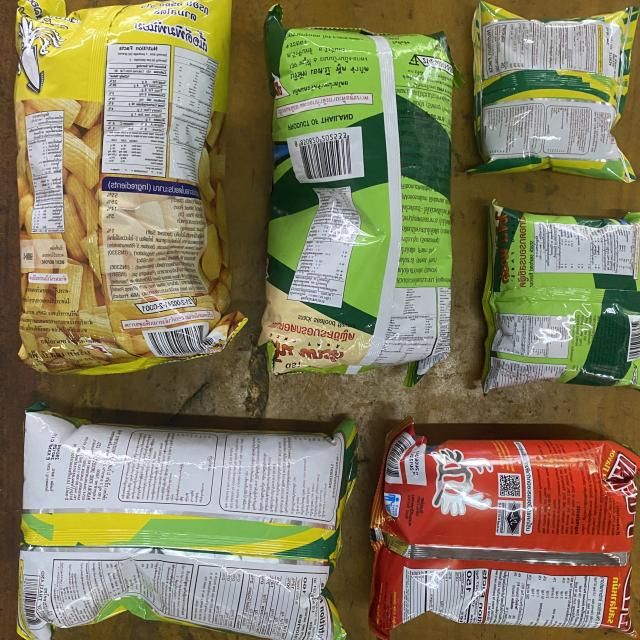plastik: (16, 0, 245, 374), (18, 406, 357, 640), (260, 5, 463, 386), (368, 418, 640, 640), (468, 2, 639, 182), (482, 203, 640, 393)
